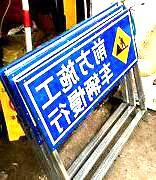sign: (19, 47, 146, 144)
